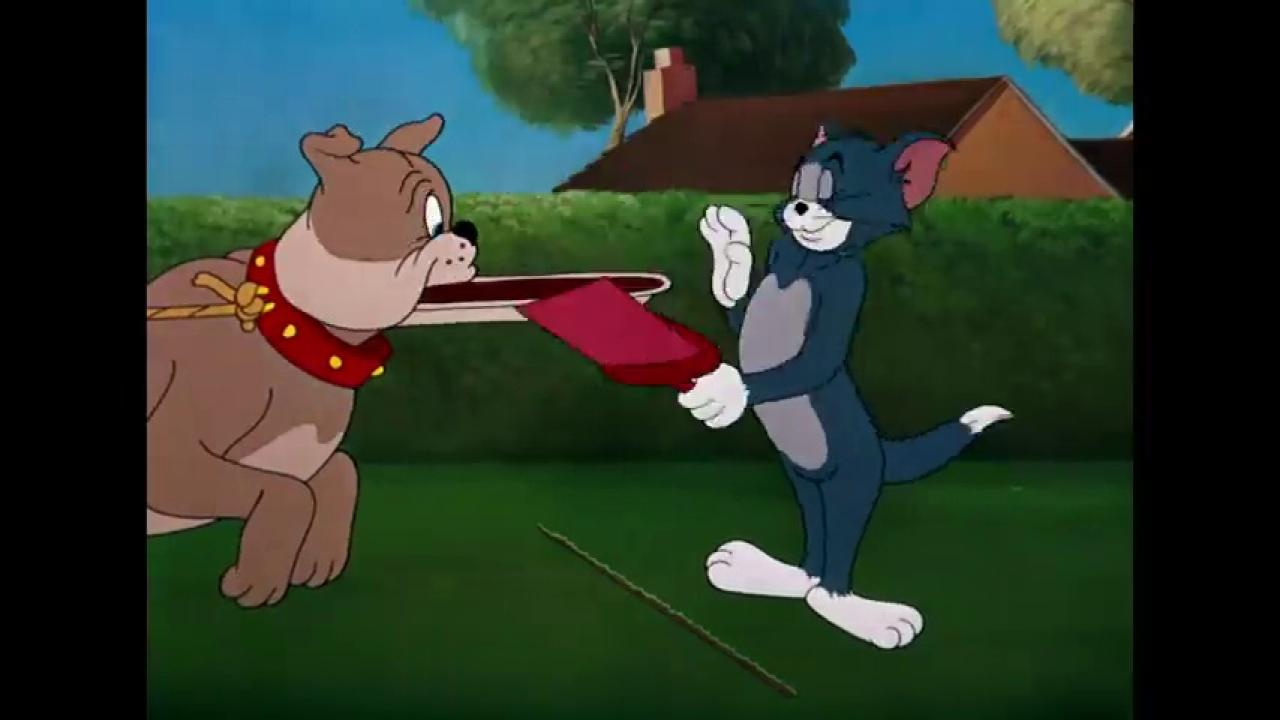Tom: (678, 110, 1018, 652)
